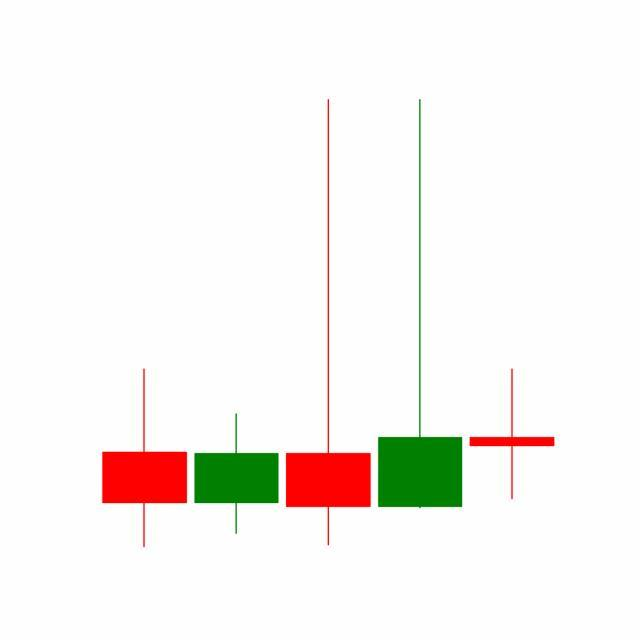Spinning Top: (466, 368, 559, 502)
